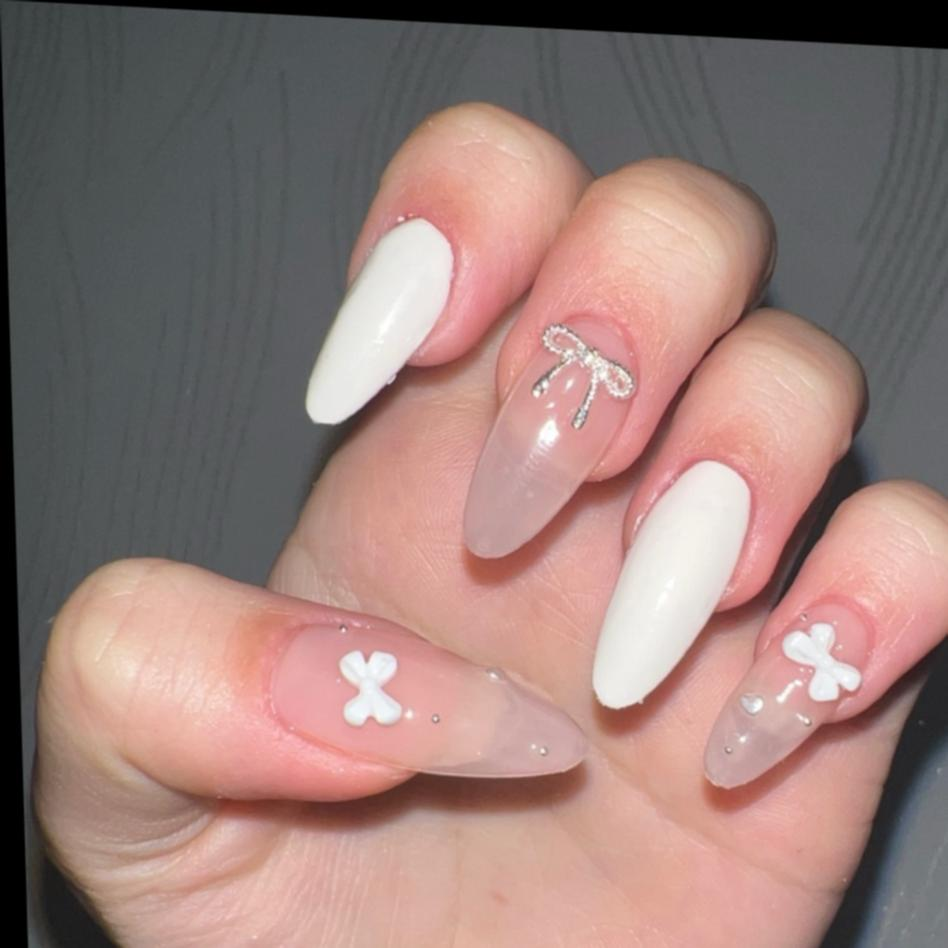nail: (694, 465, 948, 802), (267, 613, 591, 786), (455, 307, 645, 568), (584, 451, 761, 718), (299, 207, 462, 432)
